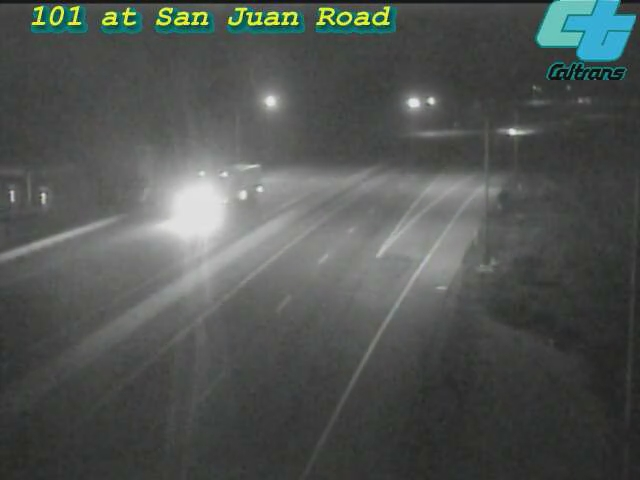vehicle: (167, 157, 247, 237), (488, 107, 538, 157)
